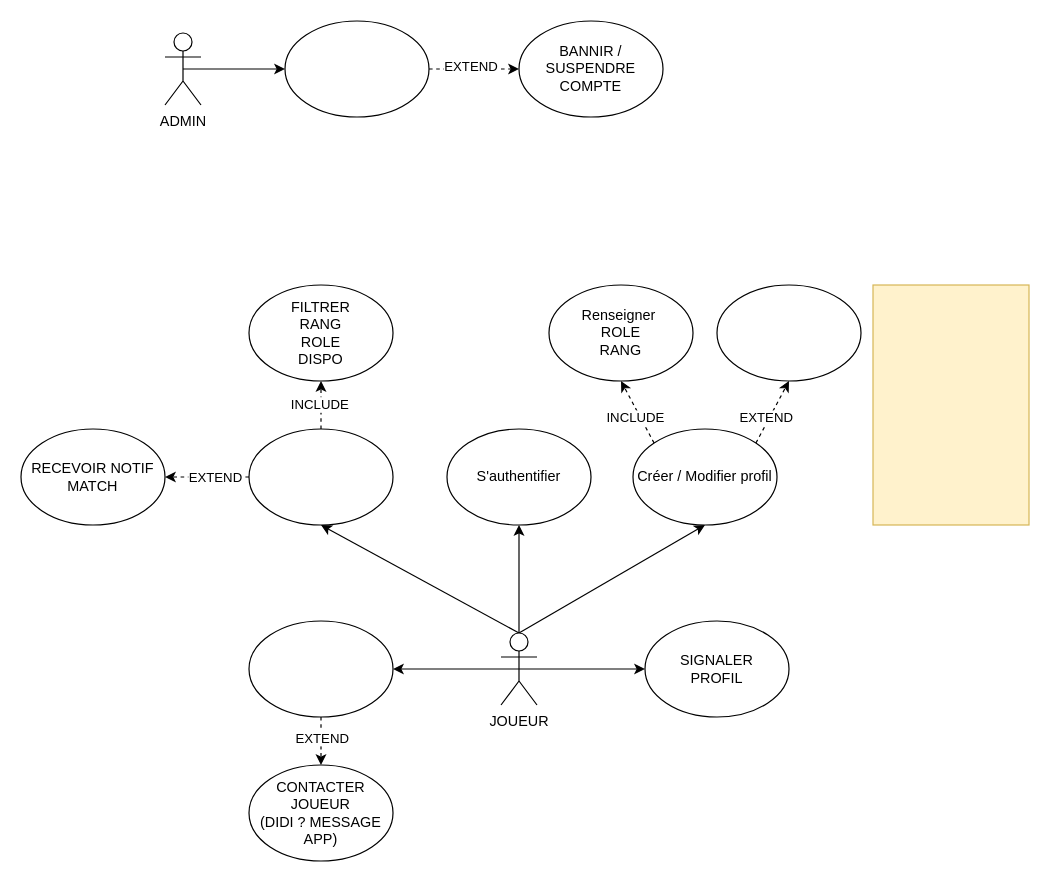
Some shapes in this 1050 by 882 pixel diagram are drawn without their labels. Here are the shapes that lost their labels. From the top down, the centre of each, then its label:
the point at 356,68: MODERER PROFIL SIGNALER
the point at 788,332: RENSEIGNER DISPO
the point at 950,404: REGARDEZ SI LA CONNECTION AVEC RIOT N'EST PAS POSSIBLE
the point at 320,476: RECHERCHER MATES
the point at 320,668: CONSULTER PROFIL JOUEUR
